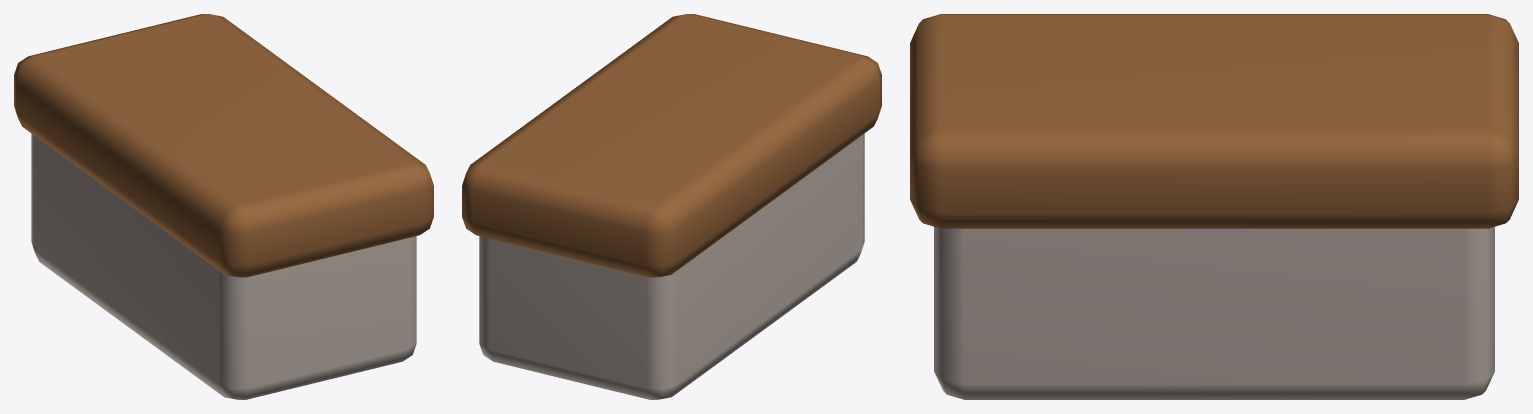
The model's file is stool_02_brown_light.fbx.
3 renders of one model, left to right at view 1: azimuth 30°, elevation 25°; view 2: azimuth 150°, elevation 25°; view 3: azimuth 270°, elevation 25°, orthographic. The views are drawn at different scales.
Visible parts, largest first — view 1: stool_02_brown_light; view 2: stool_02_brown_light; view 3: stool_02_brown_light.
Boxes of the visible parts, x1,y1,x2,y2 form: stool_02_brown_light: [14, 14, 433, 399]; stool_02_brown_light: [462, 14, 881, 399]; stool_02_brown_light: [910, 14, 1518, 399].
Bounding box in the file's own units: 42.91 × 39.33 × 78.81.
1 material, 1 textured.
